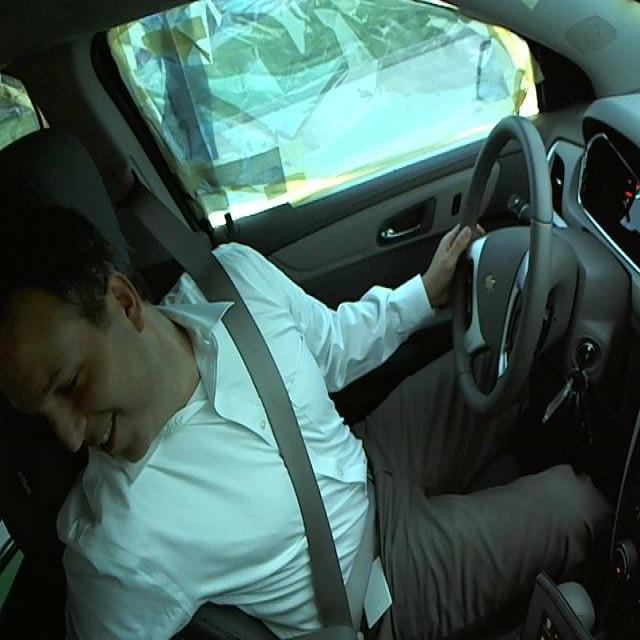seatbelt: (196, 283, 391, 600)
